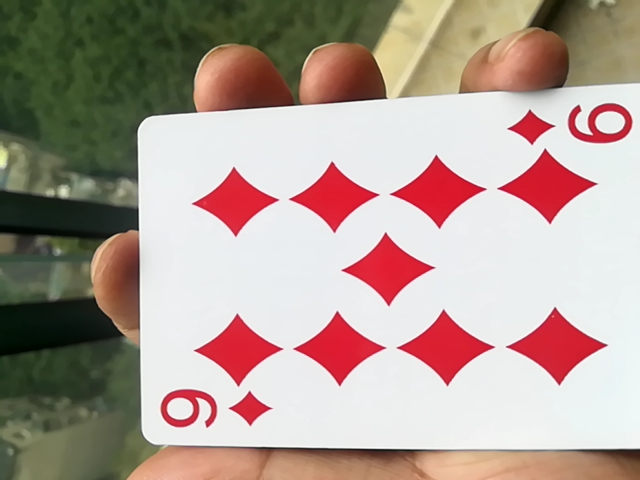fk 9: (126, 99, 638, 464)
